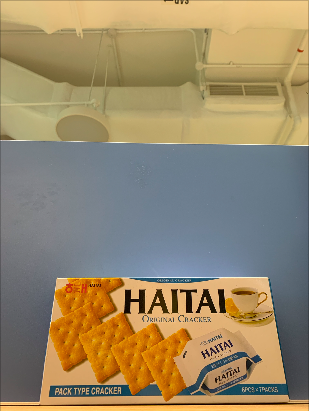Crackers_200-299g: (57, 287, 282, 401)
